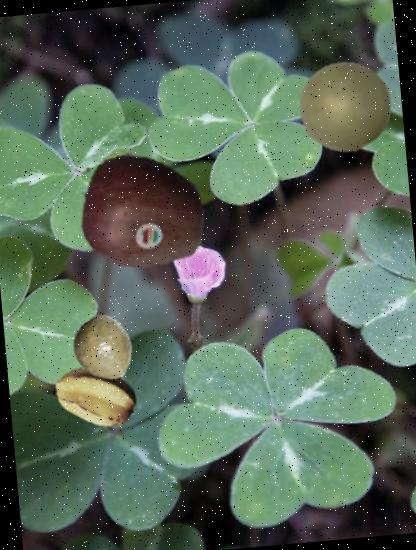Apple: (76, 146, 210, 280)
Carambula: (52, 350, 142, 440)
Grape: (295, 56, 397, 158)
Guava: (69, 314, 141, 386)
